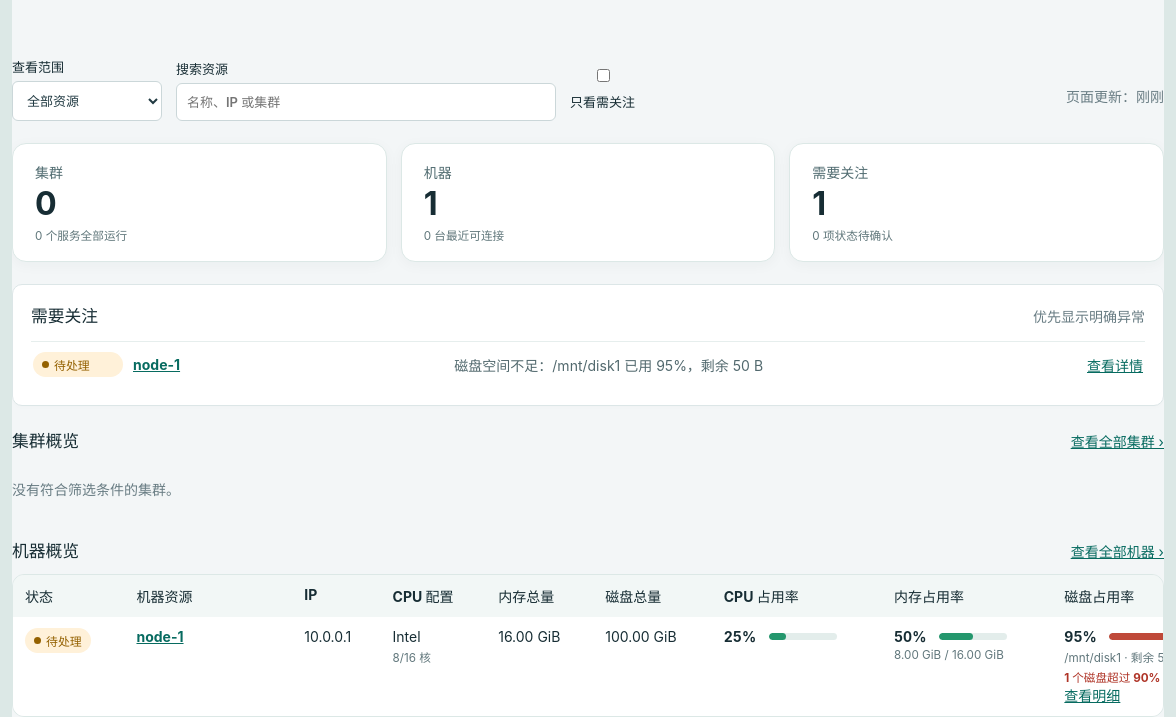
Test: machine row shows live usage and expandable disk details
(page scrolled)
Check: the button "CPU 占用率" is shown, box [724,586,799,606]
Check: the text "25%" is shown, box [724,628,762,645]
Click the button named "查看 node-1 的磁盘明细" at (1092, 695), box [1064,685,1120,705]
(page scrolled)
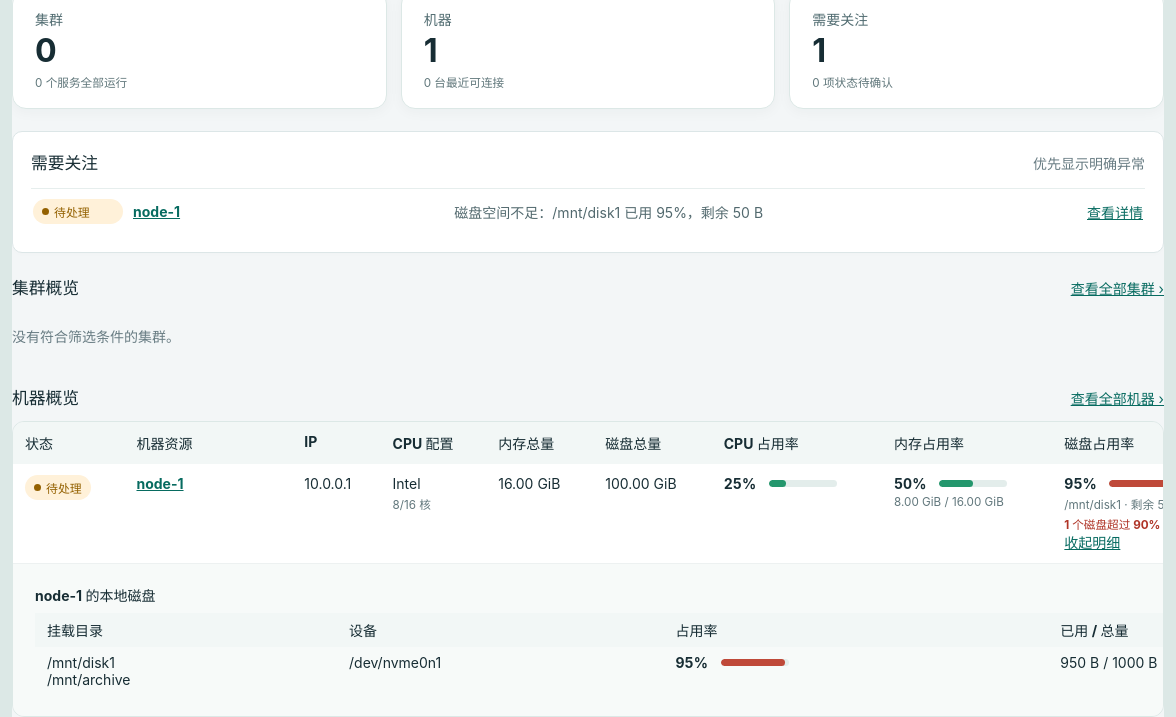
Check: the text "/dev/nvme0n1" is shown, box [337,647,664,695]
Check: the text "/mnt/archive" is shown, box [47,671,130,688]
